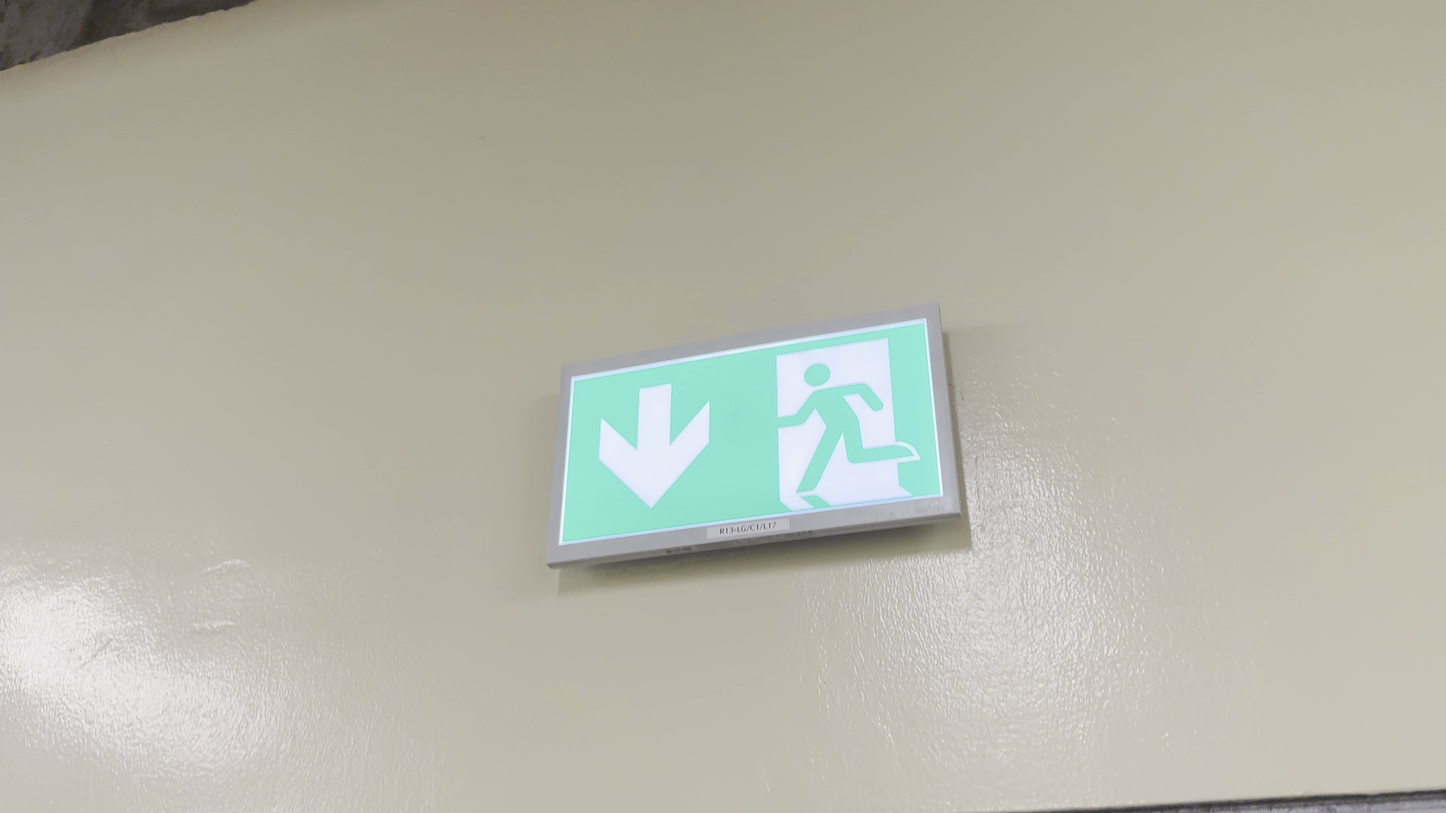emergency_exit: (545, 302, 964, 569)
